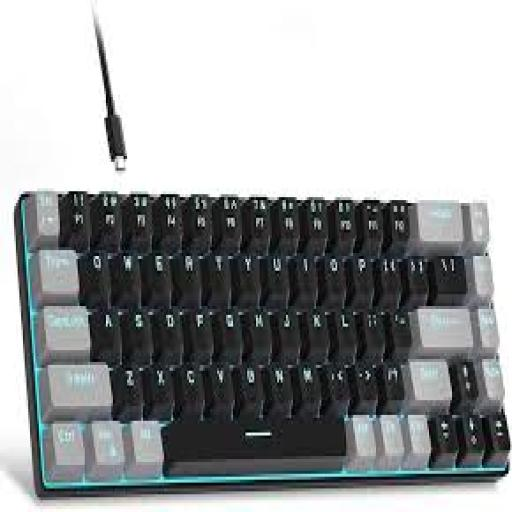KEYBOARD-2: (16, 191, 510, 494)
